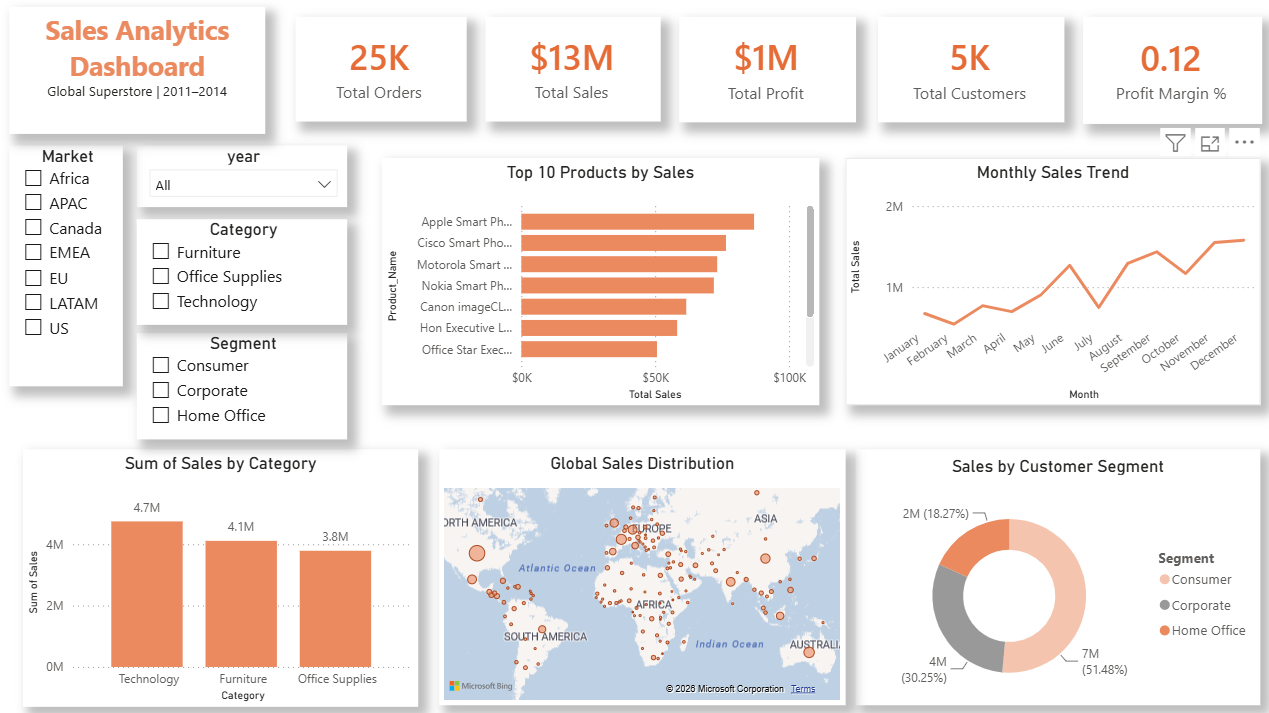

This screenshot's page, from the dashboard's own definition file:
{"tool":"powerbi","page":{"name":"Page 1","canvas":[1280,720],"ordinal":0},"visuals":[{"type":"cardVisual","fields":{"Data":["Measures (2).Total Orders"]},"box":[302.3,18.6,170.9,104.7],"z":0},{"type":"cardVisual","fields":{"Data":["Measures (2).Total Sales"]},"box":[493,18.6,175.6,104.7],"z":1000},{"type":"cardVisual","fields":{"Data":["Measures (2).Total Profit"]},"box":[686,18.6,176.7,105.8],"z":2000},{"type":"cardVisual","fields":{"Data":["Measures (2).Total Customers"]},"box":[884.9,18.6,186,105.8],"z":3000},{"type":"cardVisual","fields":{"Data":["Measures (2).Profit Margin %"]},"box":[1089.5,18.6,179.1,107],"z":4000},{"type":"columnChart","fields":{"Category":["superstore1.Category"],"Y":["Sum(superstore1.Sales)"]},"box":[30,451.2,395,257.5],"z":5000},{"type":"lineChart","title":"Monthly Sales Trend","fields":{"Y":["Sum(superstore1.Sales)"],"Category":["Calendar.Month Name"]},"box":[852.5,160,415,247.5],"z":6000},{"type":"donutChart","title":" Sales by Customer Segment","fields":{"Category":["superstore1.Segment"],"Y":["Sum(superstore1.Sales)"]},"box":[862.5,451.2,405,256.2],"z":7000},{"type":"barChart","title":"Top 10 Products by Sales","fields":{"Category":["superstore1.Product_Name"],"Y":["Measures (2).Total Sales"]},"box":[388.8,160,437.5,247.5],"z":8000},{"type":"map","title":"Global Sales Distribution","fields":{"Category":["superstore1.Country"],"Size":["Measures (2).Total Sales"]},"box":[446.2,451.2,406.2,256.2],"z":9000},{"type":"slicer","title":"year","fields":{"Values":["Calendar.Year"]},"box":[144.2,147.7,210.5,61.6],"z":10000},{"type":"slicer","title":"Market","fields":{"Values":["superstore1.Market"]},"box":[16.3,147.7,114,240.7],"z":11000},{"type":"slicer","title":"Segment","fields":{"Values":["superstore1.Segment"]},"box":[143.8,335,210,106.2],"z":12000},{"type":"slicer","title":"Category","fields":{"Values":["superstore1.Category"]},"box":[144.2,220.9,210.7,106],"z":13000},{"type":"textbox","box":[16.7,8.3,256,127.4],"z":14000}]}

Visuals, with their boxes in screenshot pixels (x1, y1, x2, y2), scaled from the page's 1280x720 canvas onto the 1269x713 screenshot:
cardVisual - Measures (2).Total Orders: {"x1": 300, "y1": 18, "x2": 469, "y2": 122}
cardVisual - Measures (2).Total Sales: {"x1": 489, "y1": 18, "x2": 663, "y2": 122}
cardVisual - Measures (2).Total Profit: {"x1": 680, "y1": 18, "x2": 855, "y2": 123}
cardVisual - Measures (2).Total Customers: {"x1": 877, "y1": 18, "x2": 1062, "y2": 123}
cardVisual - Measures (2).Profit Margin %: {"x1": 1080, "y1": 18, "x2": 1258, "y2": 124}
columnChart - superstore1.Category x Sum(superstore1.Sales): {"x1": 30, "y1": 447, "x2": 421, "y2": 702}
"Monthly Sales Trend" lineChart: {"x1": 845, "y1": 158, "x2": 1257, "y2": 404}
" Sales by Customer Segment" donutChart: {"x1": 855, "y1": 447, "x2": 1257, "y2": 701}
"Top 10 Products by Sales" barChart: {"x1": 385, "y1": 158, "x2": 819, "y2": 404}
"Global Sales Distribution" map: {"x1": 442, "y1": 447, "x2": 845, "y2": 701}
"year" slicer: {"x1": 143, "y1": 146, "x2": 352, "y2": 207}
"Market" slicer: {"x1": 16, "y1": 146, "x2": 129, "y2": 385}
"Segment" slicer: {"x1": 143, "y1": 332, "x2": 351, "y2": 437}
"Category" slicer: {"x1": 143, "y1": 219, "x2": 352, "y2": 324}
textbox: {"x1": 17, "y1": 8, "x2": 270, "y2": 134}
